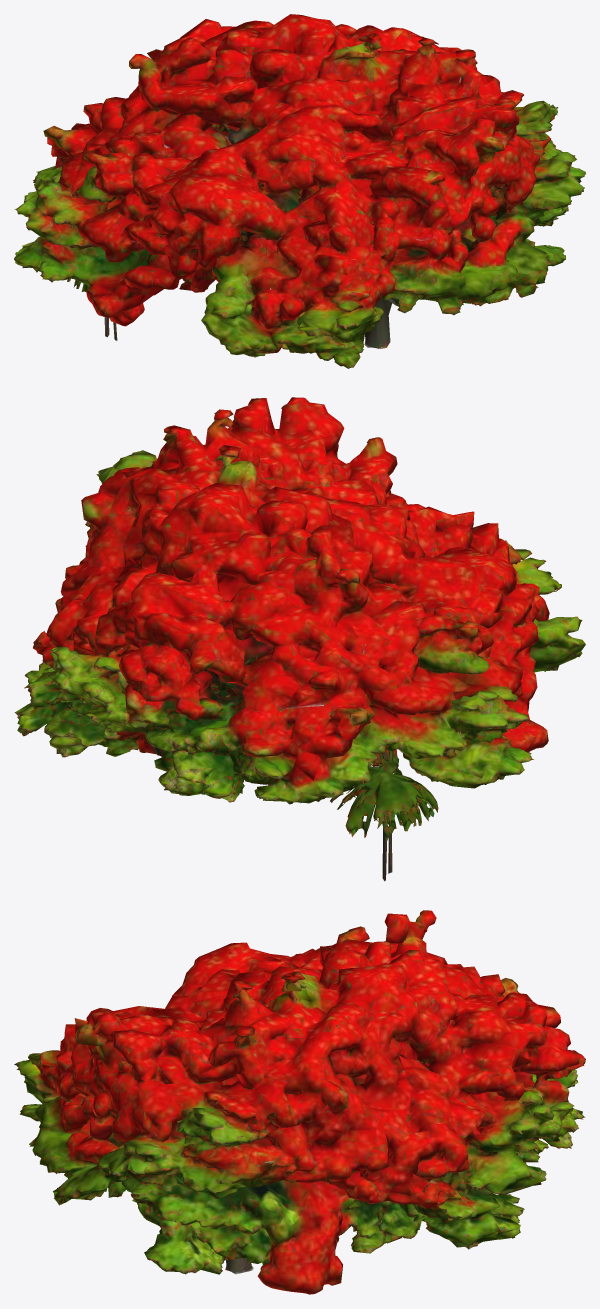
File: phuong_a.glb
The picture shows the model from 3 angles, top to bottom: view 1: azimuth 30°, elevation 25°; view 2: azimuth 150°, elevation 25°; view 3: azimuth 270°, elevation 25°; orthographic projection. The views are drawn at different scales.
Parts seen in each view (by area): view 1: Mesh_0; view 2: Mesh_0; view 3: Mesh_0.
Boxes of the visible parts, x1=… form: Mesh_0: x1=14, y1=14, x2=585, y2=368; Mesh_0: x1=14, y1=397, x2=585, y2=881; Mesh_0: x1=14, y1=910, x2=585, y2=1294.
Size of the model in its own units: 1.88 by 1.17 by 1.87.
1 material, 1 textured.
